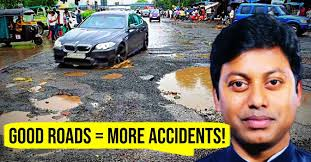pothole: (157, 61, 205, 112), (22, 87, 88, 121), (55, 68, 123, 81)
